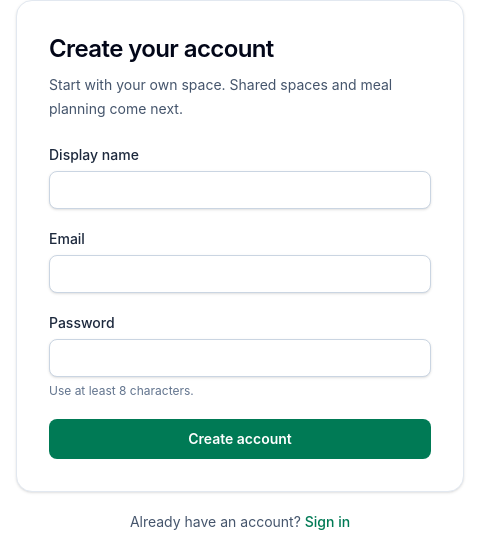
Test: SignUpPage › shows an email confirmation state after a successful sign-up
In the field labelled "Display name": x=240, y=190 [49,171,431,209], type "Alice"
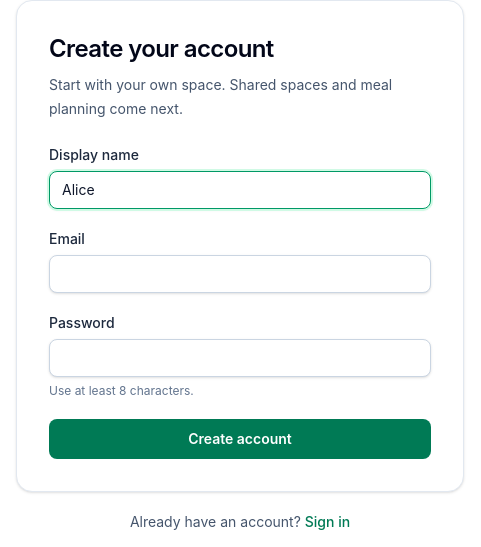
In the field labelled "Email": x=240, y=274 [49,255,431,293], type "alice@example.com"
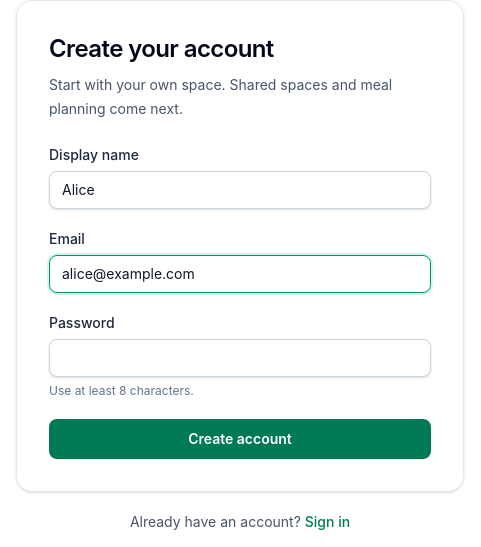
In the password field labelled "Password": x=240, y=358 [49,339,431,377], type "supersecret"
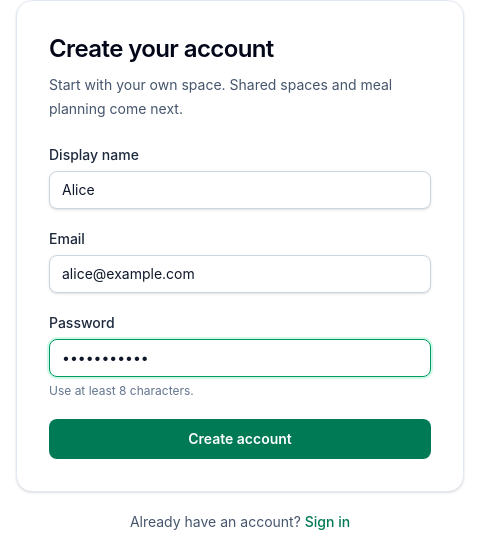
Click the button "Create account": x=240, y=439 [49,419,431,459]
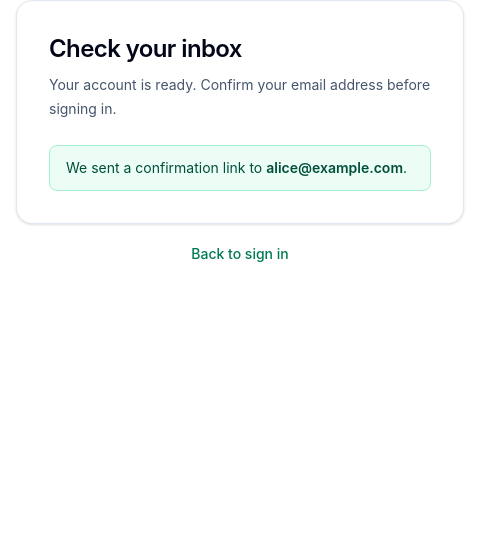
Now the heading "Check your inbox" is shown, box [49,34,242,63]
Now the text "alice@example.com" is shown, box [266,159,403,176]
